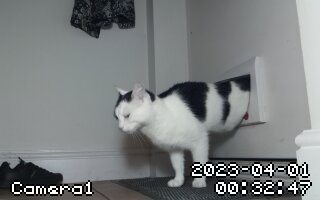bad: (112, 77, 259, 195)
